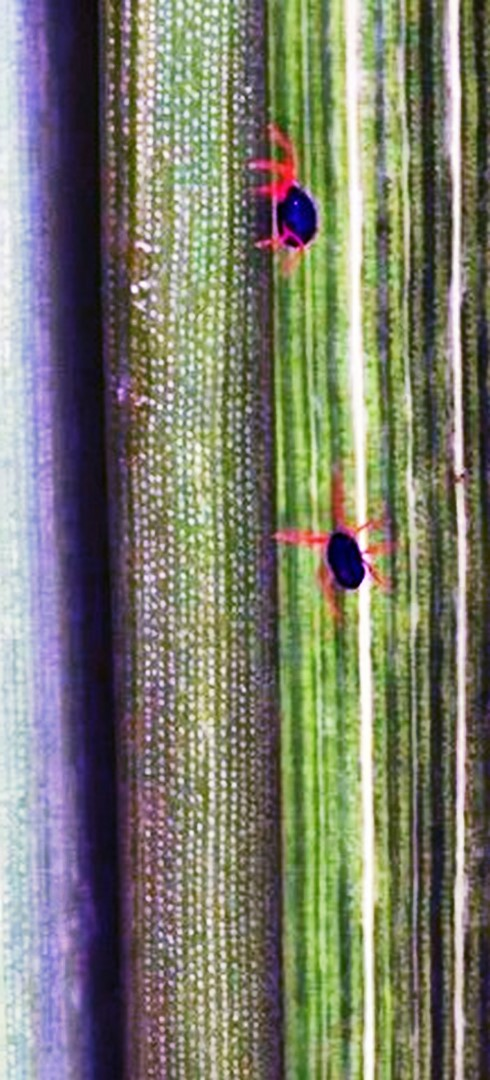Wheat Red Spider: (242, 116, 340, 277)
